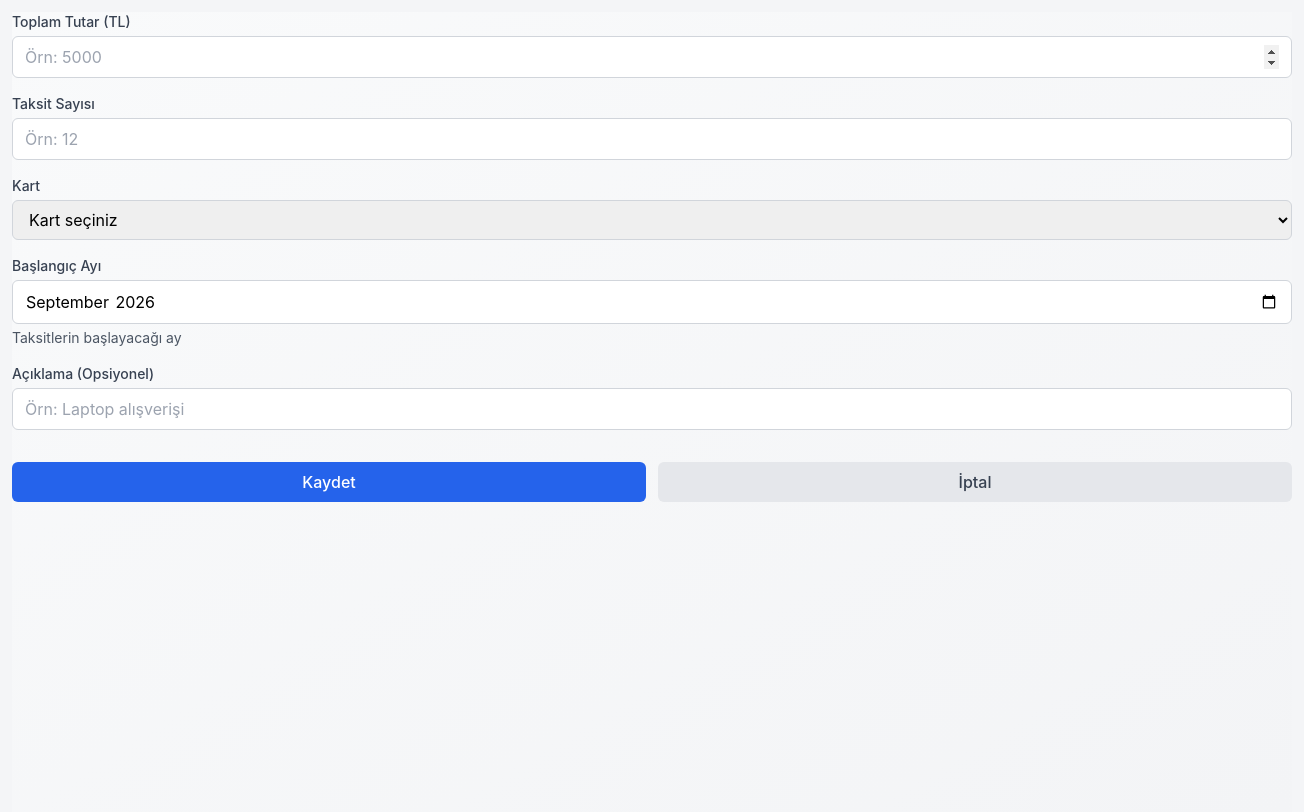
Test: InstallmentForm › should show error when amount is invalid
The width and height of the screenshot is (1304, 812).
Click the button "Kaydet" at (329, 482), box [12,462,646,502]
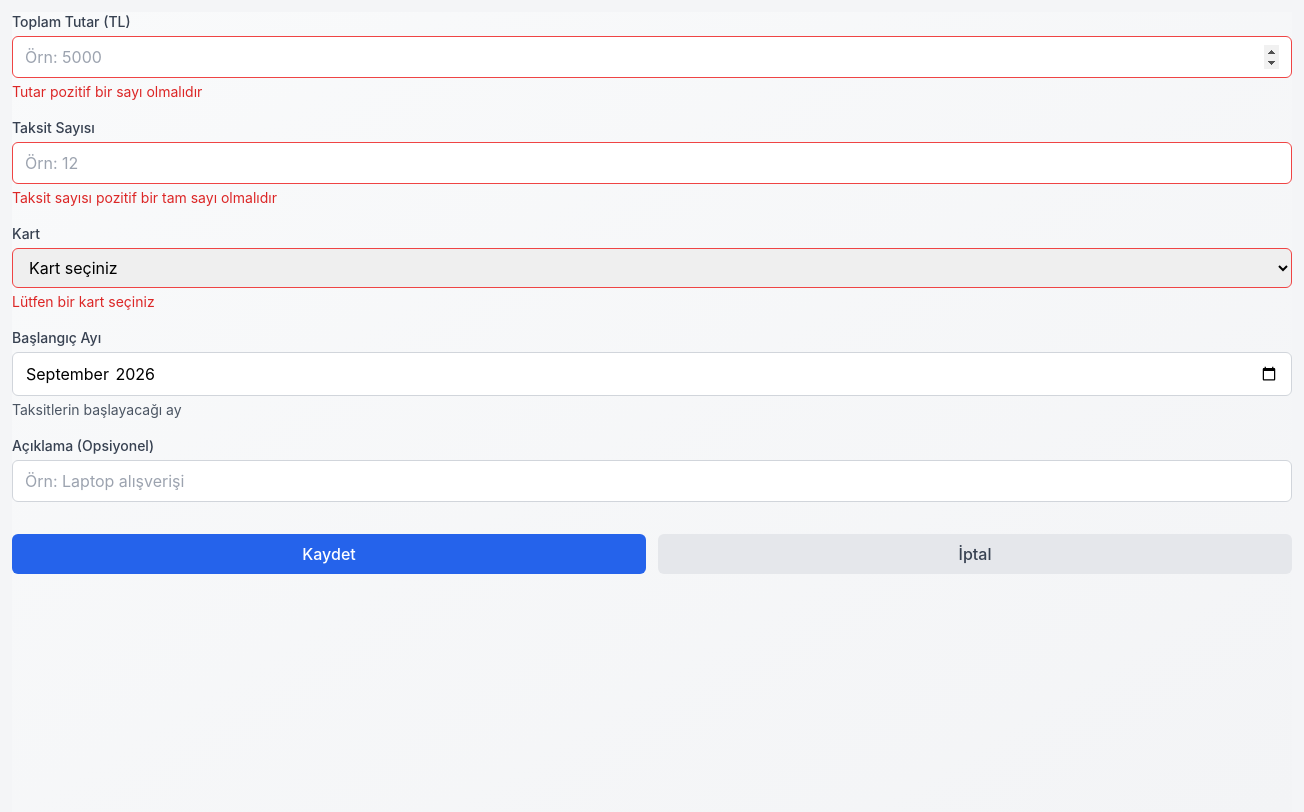
Expected: the text "Tutar pozitif bir sayı olmalıdır" is shown, [12,83,202,100]
